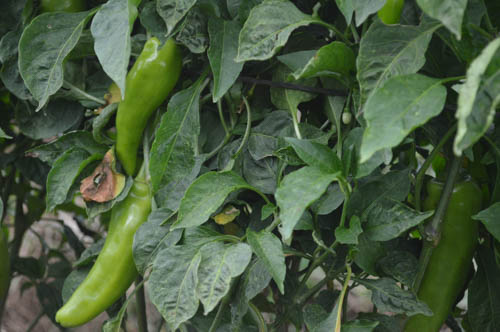ChiliPepper: (55, 181, 155, 332), (418, 180, 483, 332), (115, 40, 179, 175)
